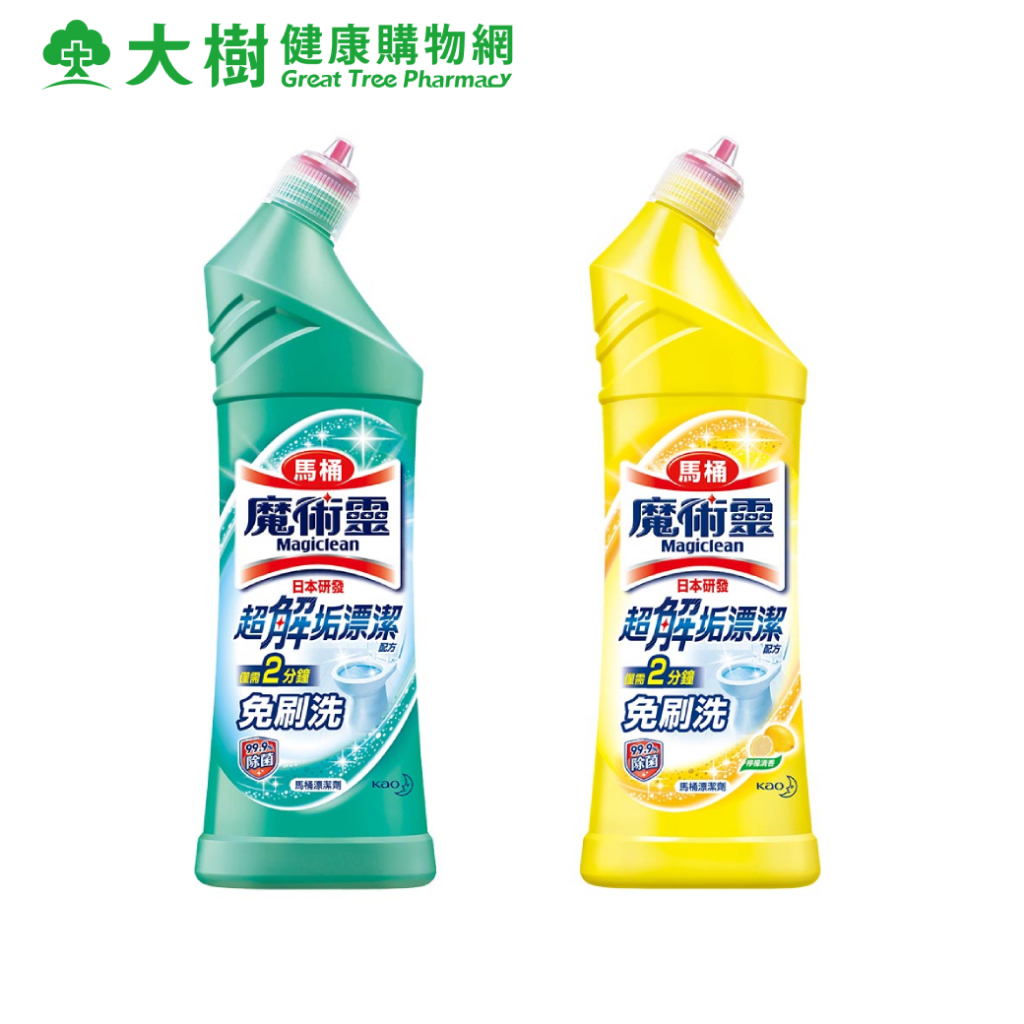cleaner: (151, 133, 444, 895), (571, 134, 839, 896)
